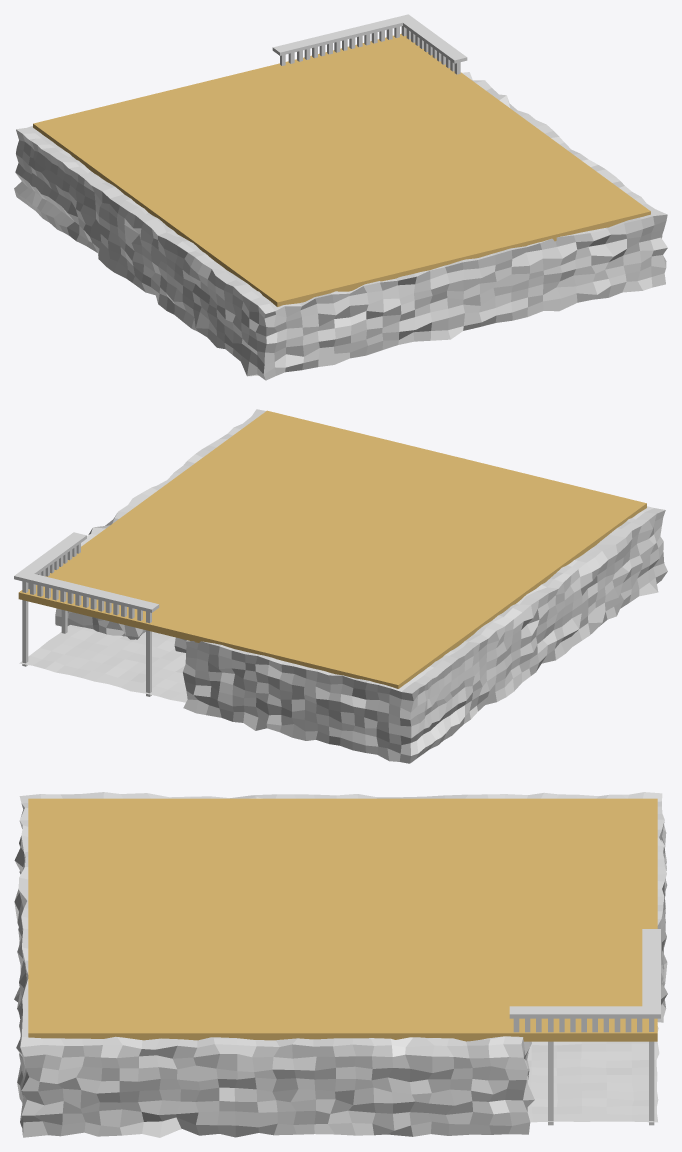
File: Basement.fbx
3 views of the same model, one above another, from view 1: azimuth 30°, elevation 25°; view 2: azimuth 150°, elevation 25°; view 3: azimuth 270°, elevation 25° (orthographic). The views are drawn at different scales.
Parts seen in each view (by area): view 1: UpperFloor.001, Cube, Stairs.001; view 2: UpperFloor.001, Cube, UpperFloor.003, Stairs.001; view 3: UpperFloor.001, Cube, UpperFloor.003, Stairs.001.
Part boxes in pixels (bbox=[...]): UpperFloor.001: bbox=[33, 33, 650, 306]; Cube: bbox=[14, 72, 667, 380]; Stairs.001: bbox=[272, 14, 467, 74]; UpperFloor.001: bbox=[18, 410, 646, 688]; Cube: bbox=[55, 409, 667, 763]; UpperFloor.003: bbox=[19, 625, 187, 702]; Stairs.001: bbox=[14, 532, 159, 696]; UpperFloor.001: bbox=[28, 798, 657, 1041]; Cube: bbox=[14, 792, 667, 1137]; UpperFloor.003: bbox=[527, 1026, 659, 1122]; Stairs.001: bbox=[509, 929, 660, 1125].
Bounding box in the file's own units: 16.54 × 3.58 × 17.67.
